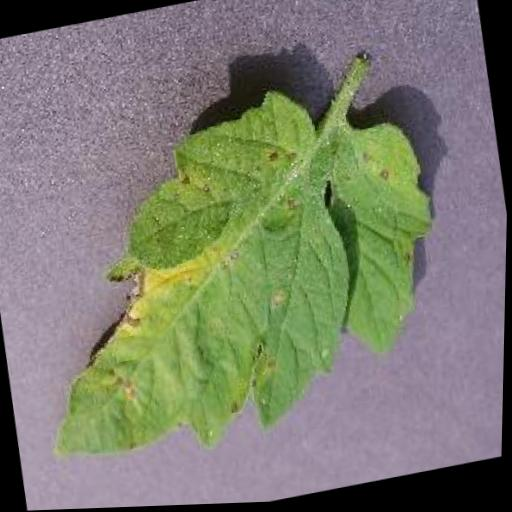Septoria: (6, 62, 468, 469)
